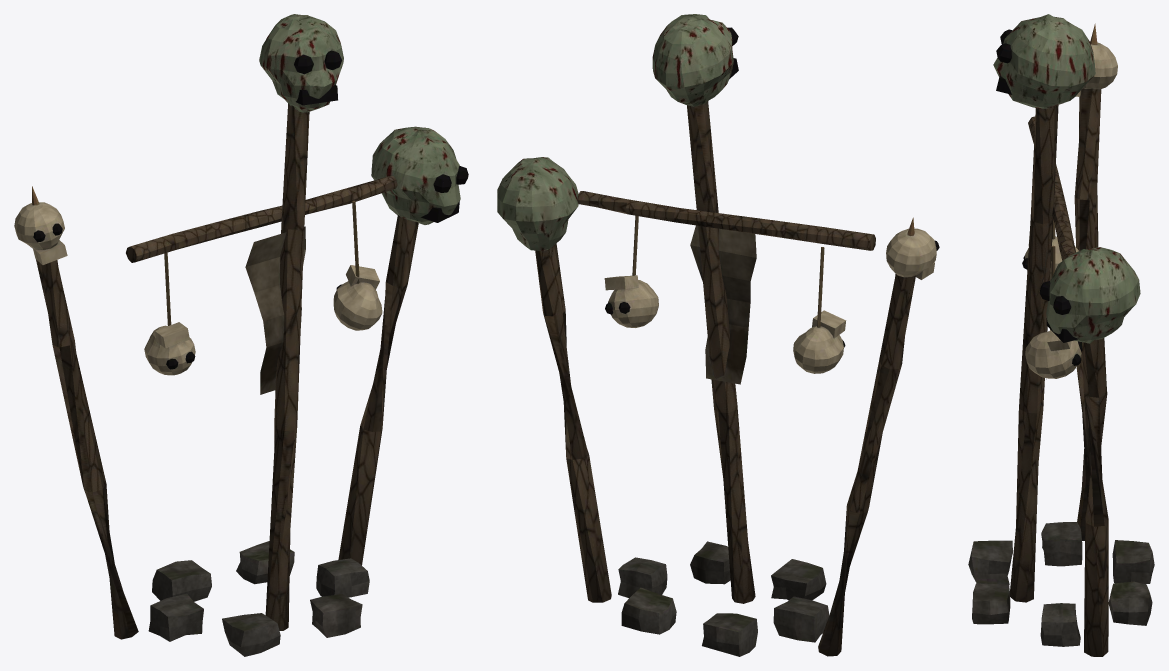
The model's file is pike_heads.glb.
3 views of the same model, side by side, from view 1: azimuth 30°, elevation 25°; view 2: azimuth 150°, elevation 25°; view 3: azimuth 270°, elevation 25° (orthographic). The views are drawn at different scales.
Parts seen in each view (by area): view 1: pike_heads; view 2: pike_heads; view 3: pike_heads.
Boxes of the visible parts, x1,y1,x2,y2 form: pike_heads: [14, 14, 468, 656]; pike_heads: [497, 14, 939, 656]; pike_heads: [968, 14, 1154, 656].
Size of the model in its own units: 2.02 by 2.62 by 0.7377.
1 material, 1 textured.
